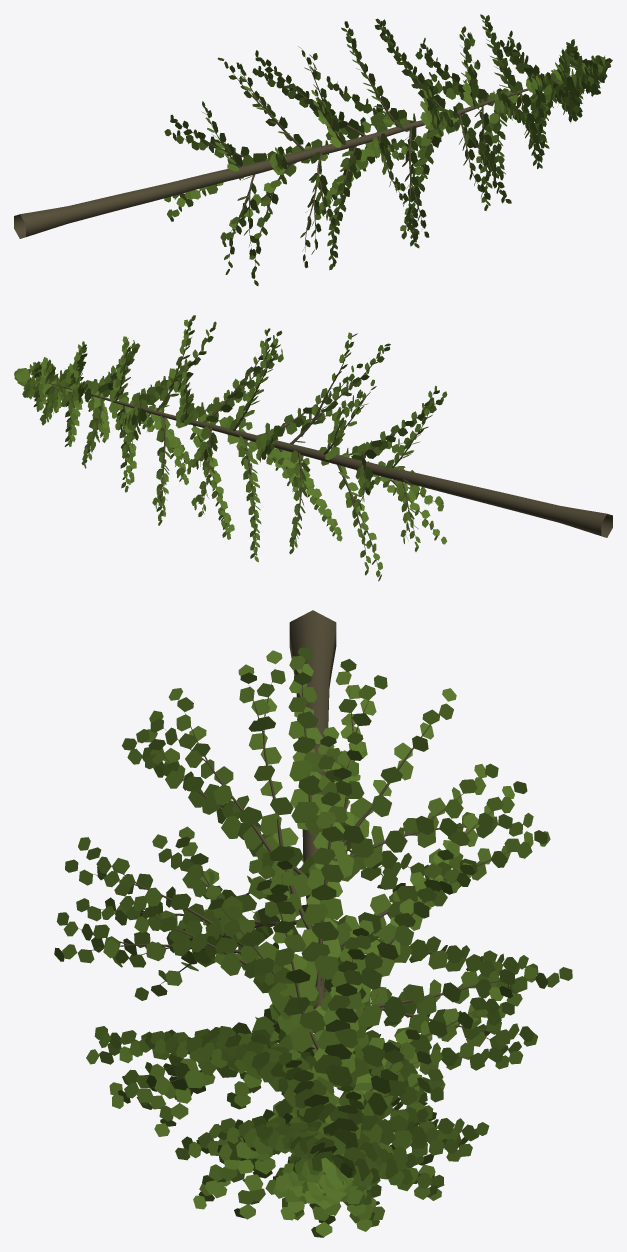
File: fir 1.fbx
The picture shows the model from 3 angles, top to bottom: view 1: azimuth 30°, elevation 25°; view 2: azimuth 150°, elevation 25°; view 3: azimuth 270°, elevation 25°; orthographic projection. The views are drawn at different scales.
Visible parts, largest first — view 1: leaves.001, fir; view 2: leaves.001, fir; view 3: leaves.001, fir.
Part boxes in pixels (x1=…): leaves.001: x1=164, y1=14, x2=612, y2=285; fir: x1=14, y1=29, x2=590, y2=265; leaves.001: x1=14, y1=315, x2=447, y2=581; fir: x1=32, y1=328, x2=612, y2=563; leaves.001: x1=54, y1=647, x2=572, y2=1237; fir: x1=77, y1=610, x2=553, y2=1191.
Bounding box in the file's own units: 1788 × 1769 × 4671.
